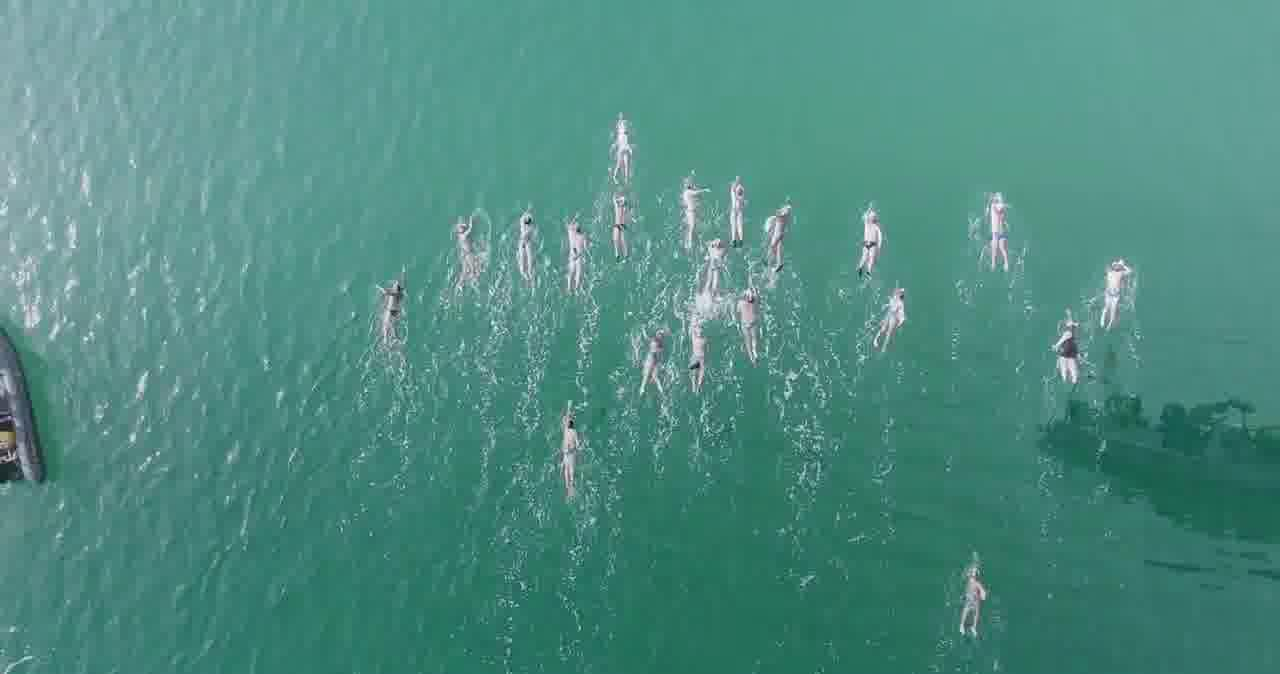swimmer: (551, 406, 590, 472), (369, 270, 413, 328), (983, 187, 1017, 262), (735, 288, 772, 348), (1050, 319, 1089, 370), (858, 202, 893, 258), (958, 558, 988, 614), (689, 326, 721, 376), (600, 190, 628, 246), (763, 205, 795, 254), (883, 281, 909, 341), (721, 172, 743, 242), (602, 117, 636, 162), (449, 210, 476, 266), (672, 179, 701, 230), (513, 191, 534, 259), (1102, 254, 1124, 312), (700, 241, 733, 278), (566, 214, 585, 276), (642, 324, 665, 374)
